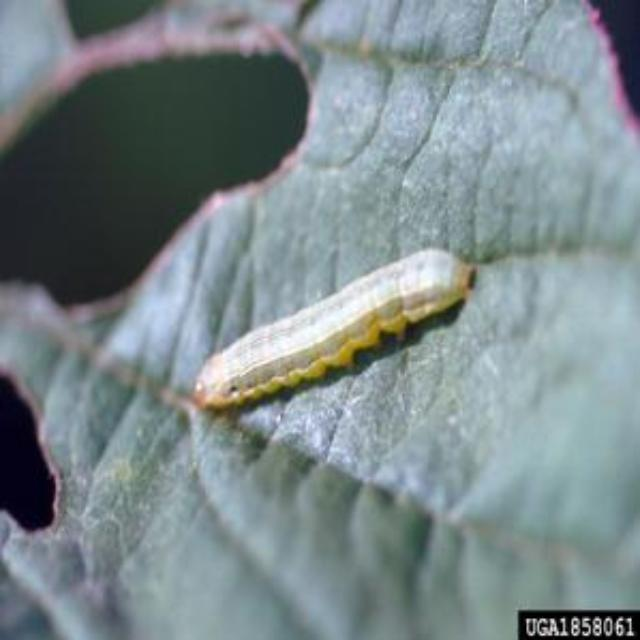Beet armyworm: (142, 220, 492, 458)
